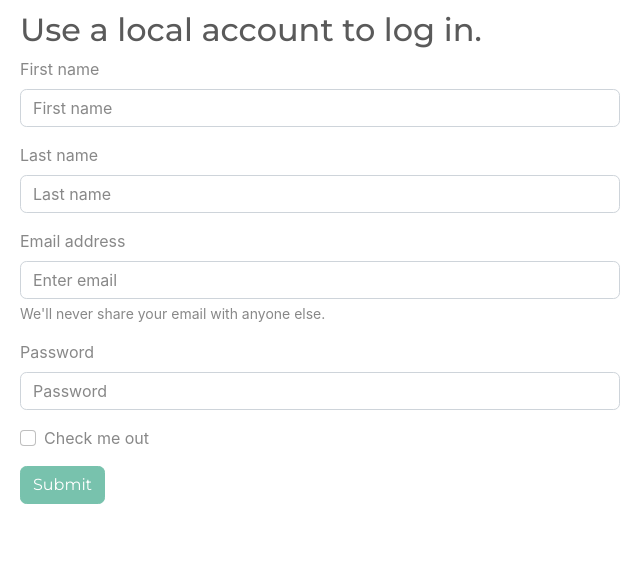
Register component › should show warining if first name is less than 3 characters
The image size is (641, 561).
In the field with placeholder "First name": coordinates (320, 108) [20, 89, 620, 127], type "zz"
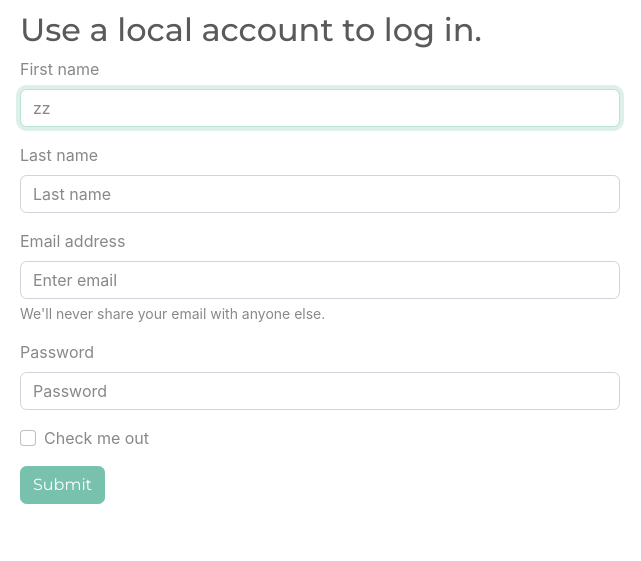
In the field with placeholder "Enter email": coordinates (320, 280) [20, 261, 620, 299], type "visitacity@abv.bg"
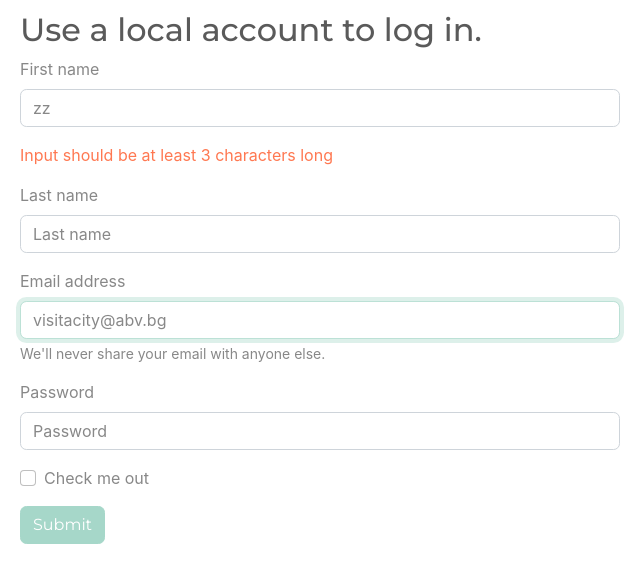
Expected: the text "Input should be at least 3 characters long" is shown, [20, 145, 333, 165]
